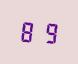eight: (19, 18, 37, 43)
nine: (38, 19, 56, 44)
